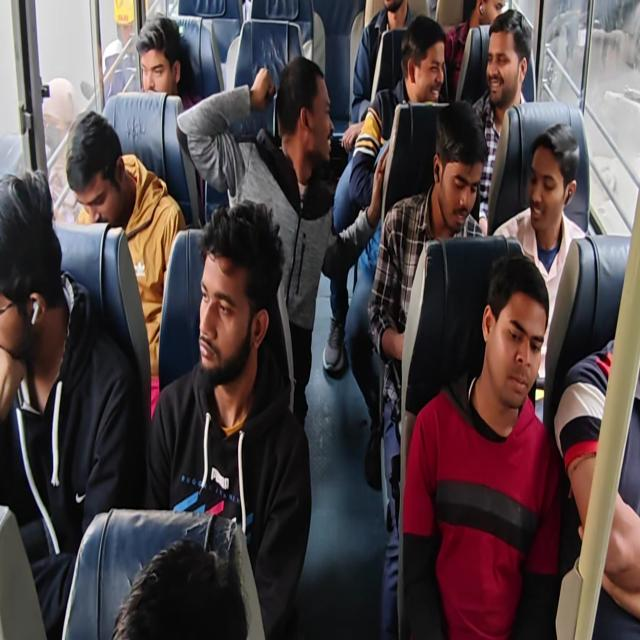person: (182, 221, 258, 388), (0, 181, 62, 366), (271, 58, 342, 179), (488, 264, 546, 402), (72, 111, 120, 230), (429, 130, 478, 235), (523, 139, 565, 237), (128, 21, 172, 106), (486, 26, 527, 102), (408, 31, 444, 105), (466, 0, 508, 47), (375, 0, 405, 19)
